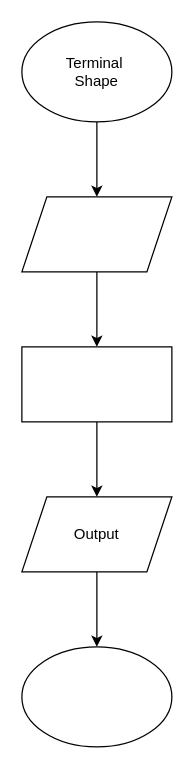
The diagram is 194 pixels wide and 769 high, and some of its shapes have lost their labels. Each missing label, with the centre of its shape:
Input: the point at 96,234
Processing: the point at 96,384
